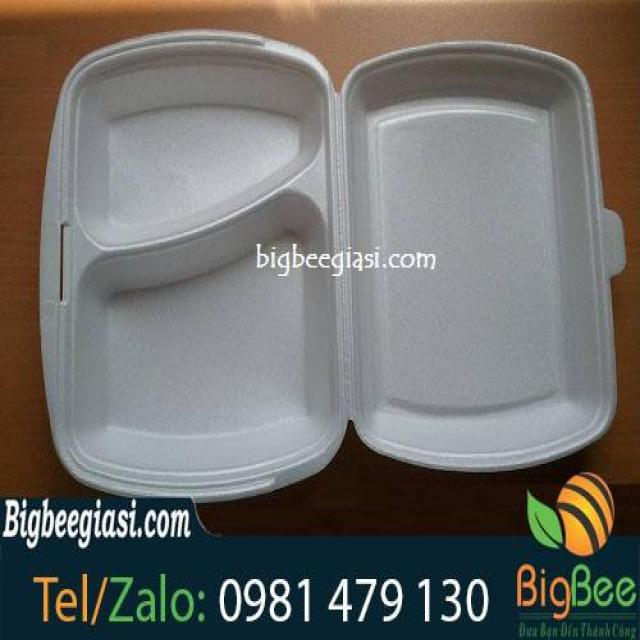styrofoam: (37, 26, 626, 502), (340, 37, 626, 474)
